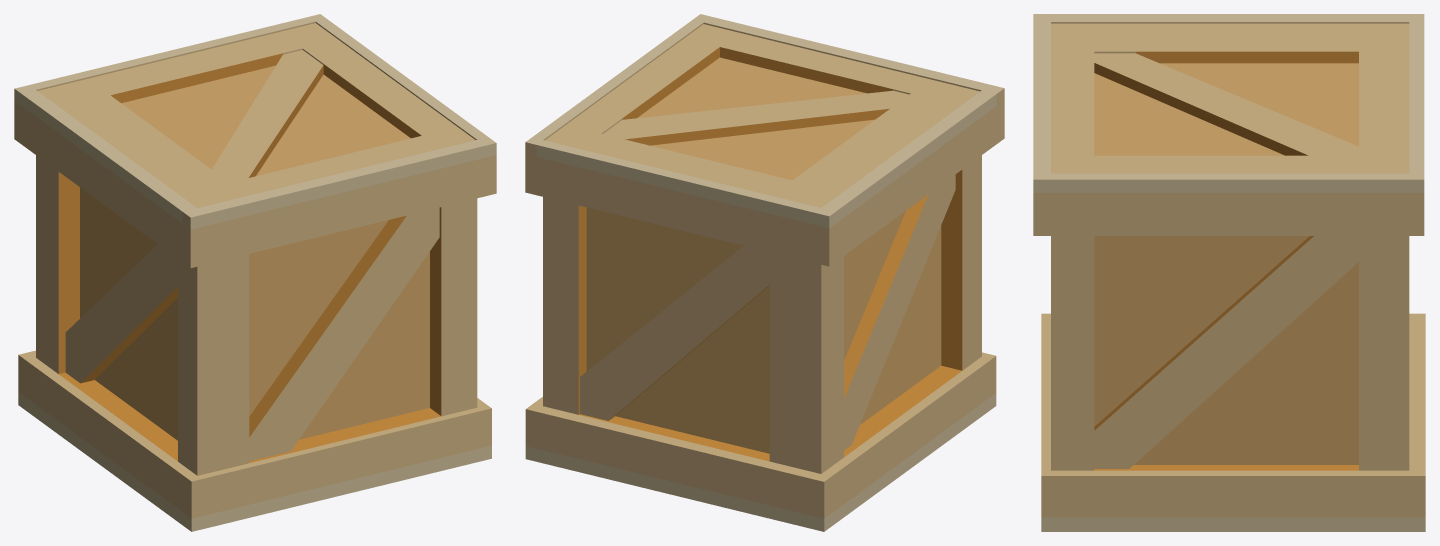
The picture shows the model from 3 angles, left to right: view 1: azimuth 30°, elevation 25°; view 2: azimuth 150°, elevation 25°; view 3: azimuth 270°, elevation 25°; orthographic projection. The views are drawn at different scales.
Parts seen in each view (by area): view 1: Cube; view 2: Cube; view 3: Cube.
Part boxes in pixels (x1,y1,x2,y2): Cube: (14, 14, 496, 531); Cube: (525, 14, 1004, 531); Cube: (1033, 14, 1425, 531).
Size of the model in its own units: 219 by 217 by 219.
